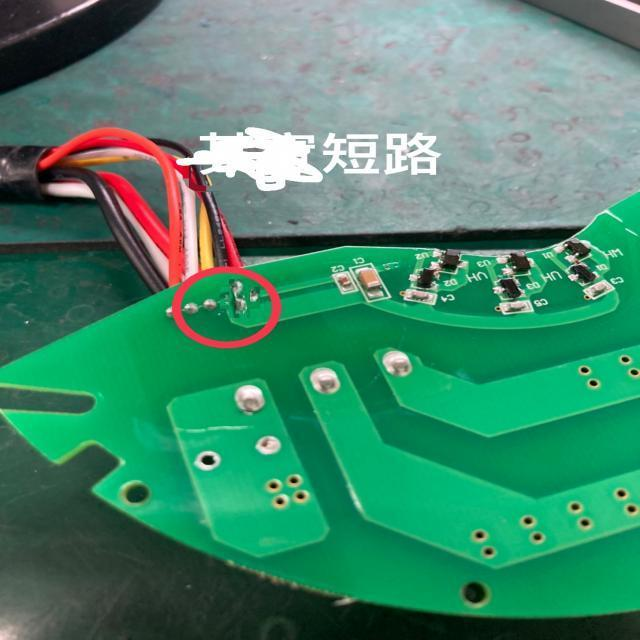damged: (230, 279, 250, 318)
